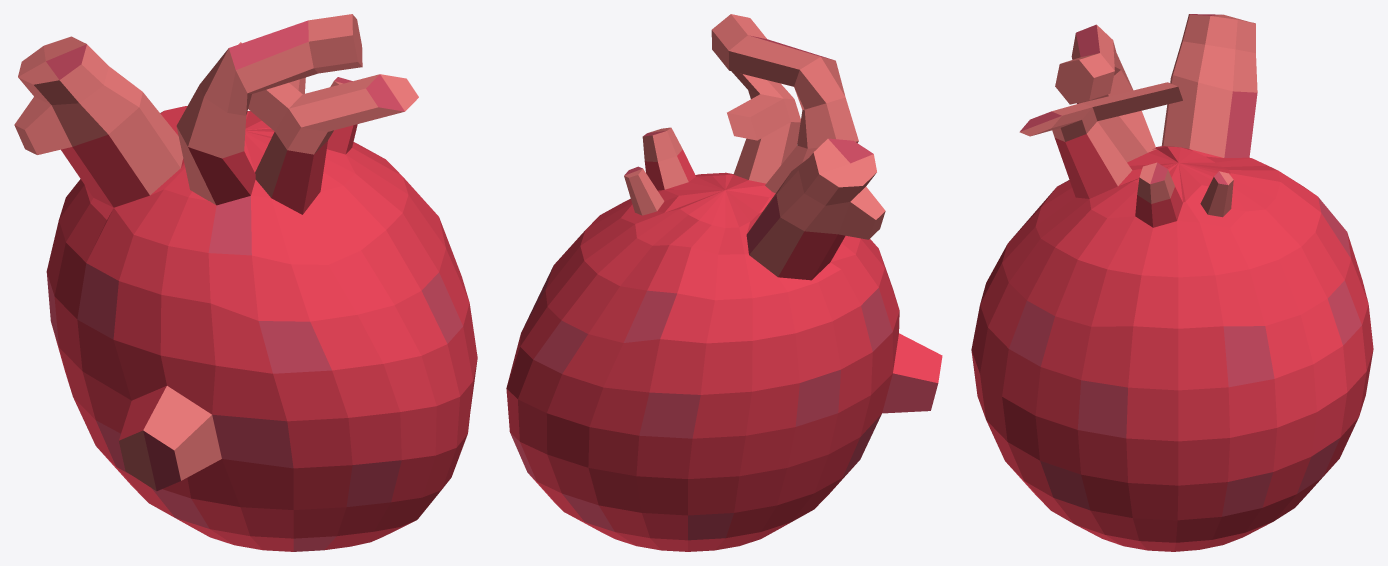
The model's file is heart.fbx.
3 renders of one model, left to right at view 1: azimuth 30°, elevation 25°; view 2: azimuth 150°, elevation 25°; view 3: azimuth 270°, elevation 25°, orthographic. The views are drawn at different scales.
Visible parts, largest first — view 1: Heart; view 2: Heart; view 3: Heart.
Part boxes in pixels (x1,y1,x2,y2): Heart: (14,14,477,551); Heart: (506,14,942,551); Heart: (971,14,1373,551).
Size of the model in its own units: 74.08 by 97.15 by 74.86.
